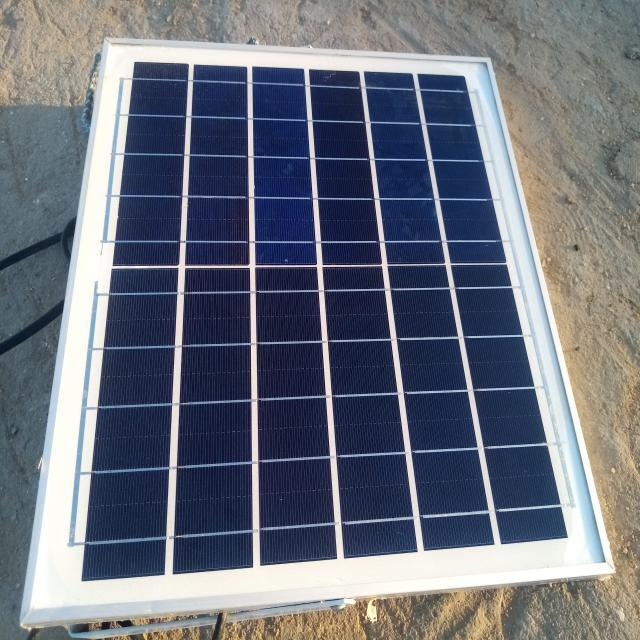no faulty: (20, 45, 609, 617)
